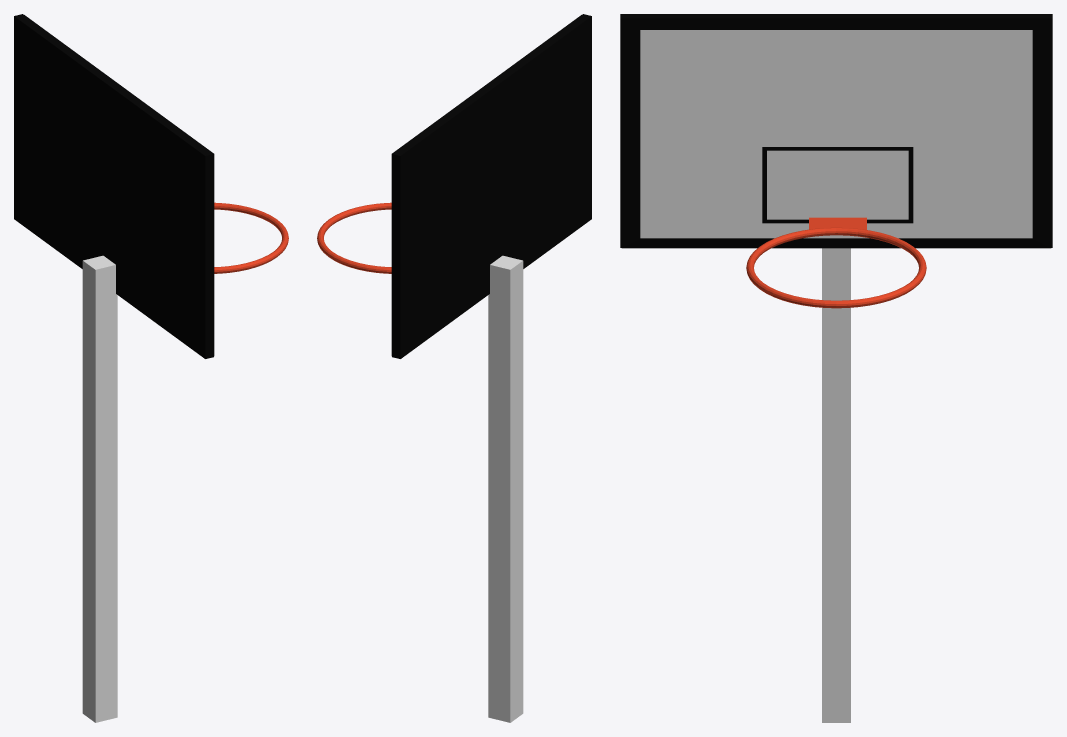
File: Basketball3.fbx
3 views of the same model, side by side, from view 1: azimuth 30°, elevation 25°; view 2: azimuth 150°, elevation 25°; view 3: azimuth 270°, elevation 25° (orthographic). The views are drawn at different scales.
Visible parts, largest first — view 1: Cube.001, Cube; view 2: Cube.001, Cube; view 3: Plane, Cube.001, Cube.
Boxes of the visible parts, x1=… form: Cube.001: x1=14, y1=14, x2=288, y2=358; Cube: x1=82, y1=255, x2=117, y2=722; Cube.001: x1=317, y1=14, x2=591, y2=358; Cube: x1=488, y1=255, x2=523, y2=722; Plane: x1=640, y1=30, x2=1032, y2=238; Cube.001: x1=620, y1=14, x2=1052, y2=308; Cube: x1=822, y1=248, x2=850, y2=722.
Bounding box in the file's own units: 128 × 407 × 225.
